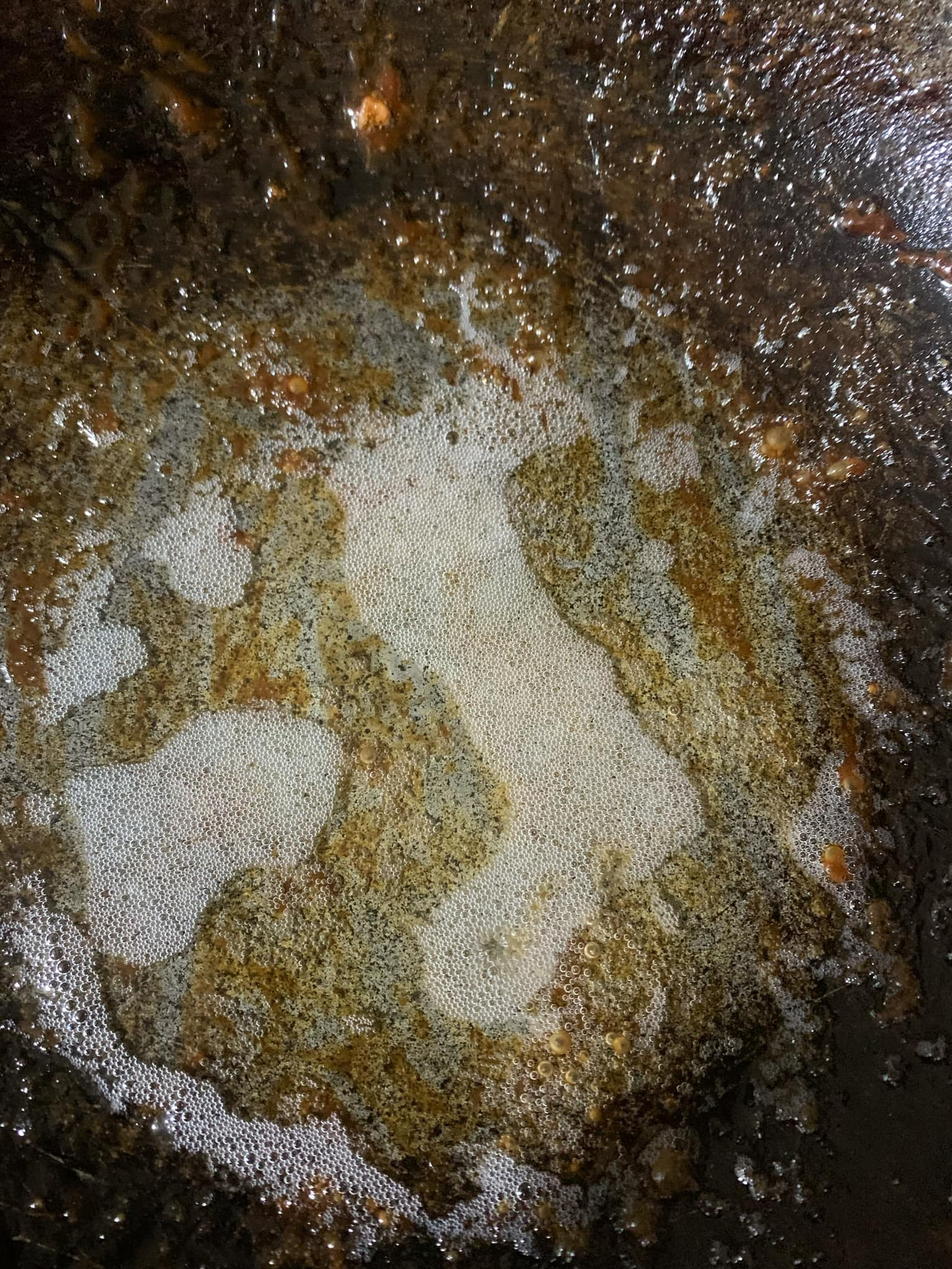non-reusable: (0, 260, 840, 1193)
